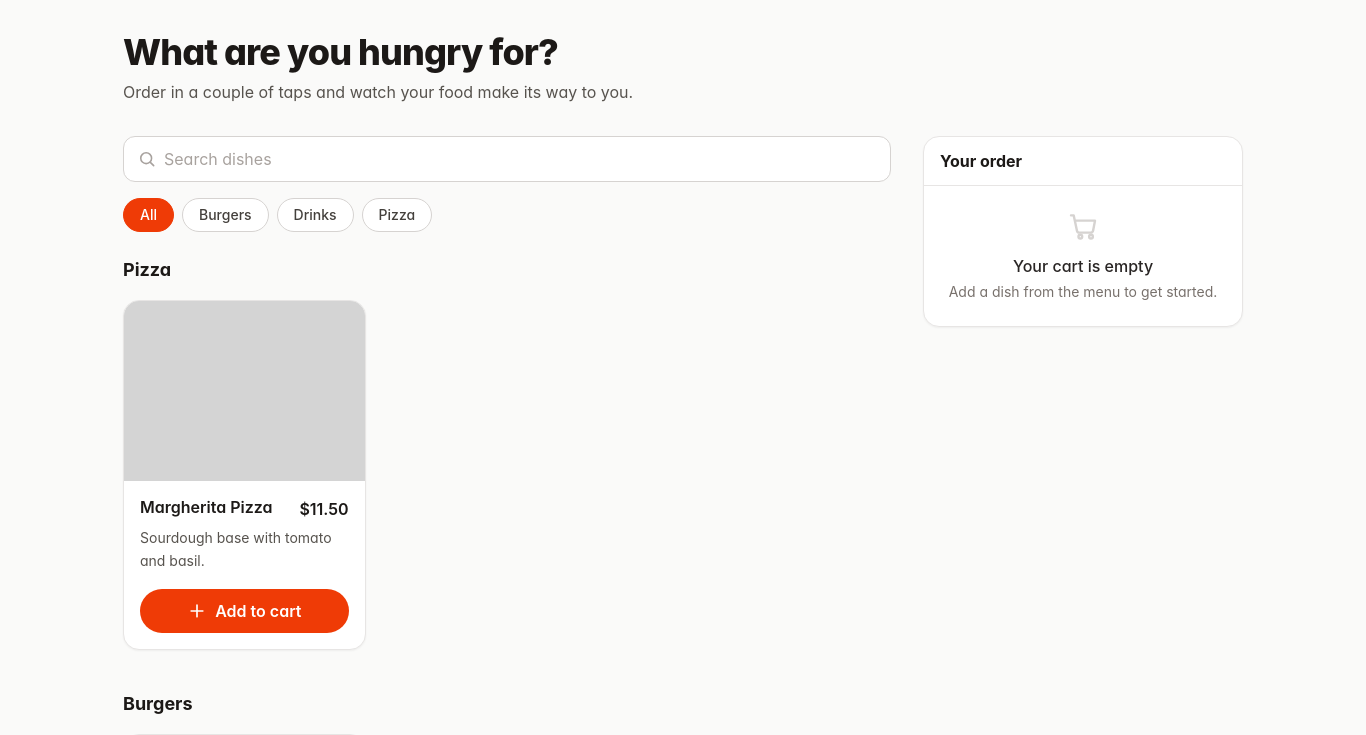
Scenario: filtering › offers a way out when nothing matches
This screenshot has width=1366, height=735.
Expected: the heading "Margherita Pizza" is shown, 140,498 -> 272,518
Type "sushi omakase" into the search field named "search the menu" at [507, 159], box 123,136 -> 891,182
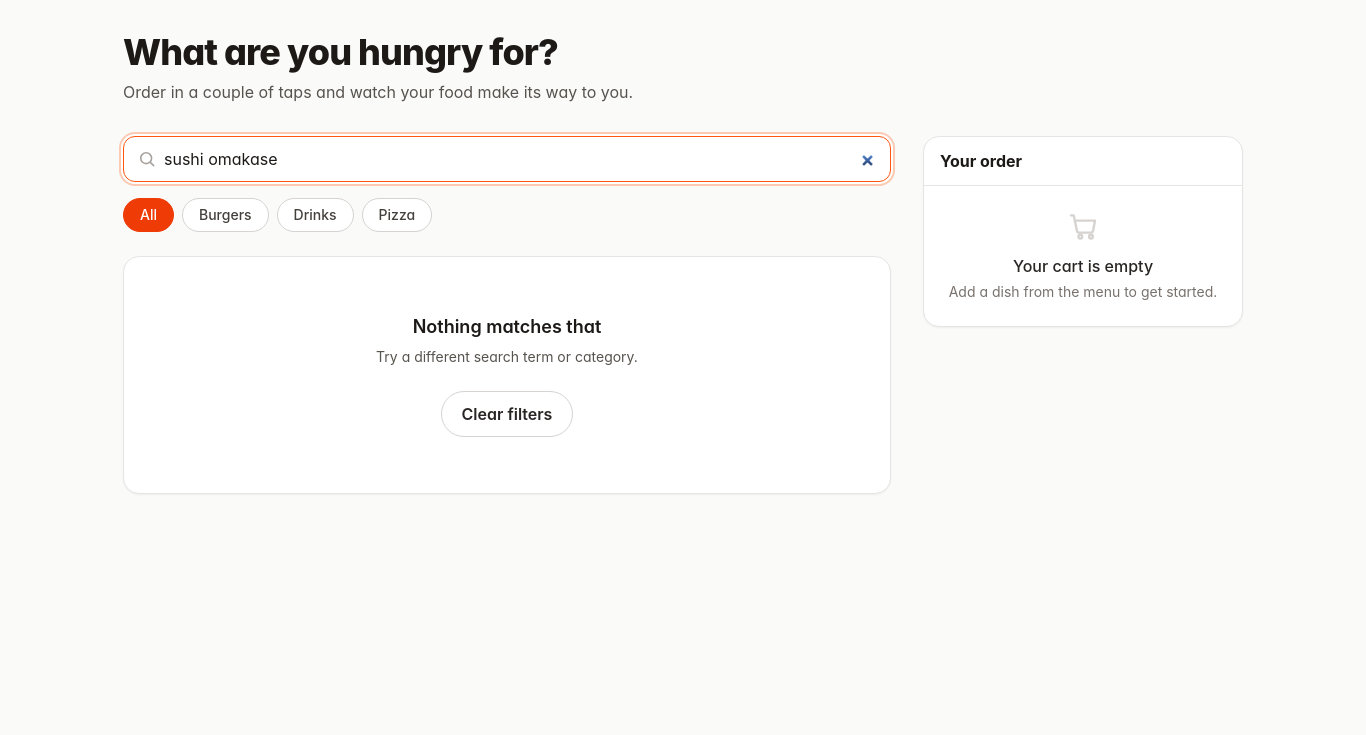
Result: the text "Nothing matches that" is shown at 413,313 -> 601,341
Click the button "Clear filters" at [507, 414], box 441,391 -> 573,437
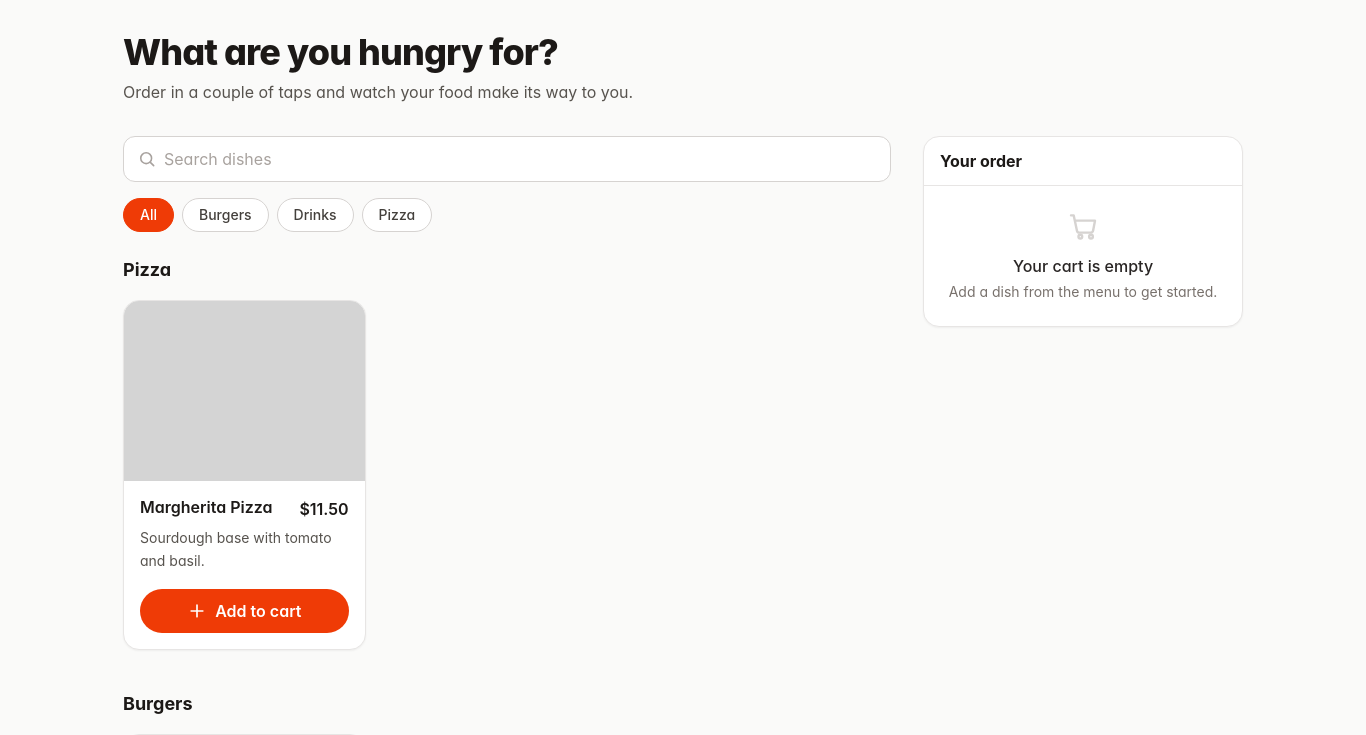
Result: the heading "Margherita Pizza" is shown at 140,498 -> 272,518
